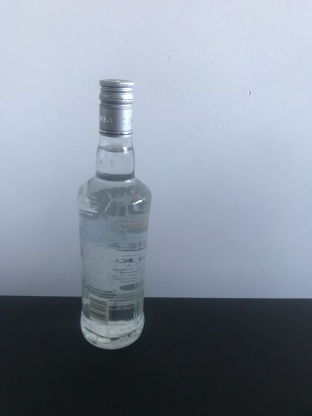nakretka: (97, 76, 136, 140), (102, 78, 146, 114)
